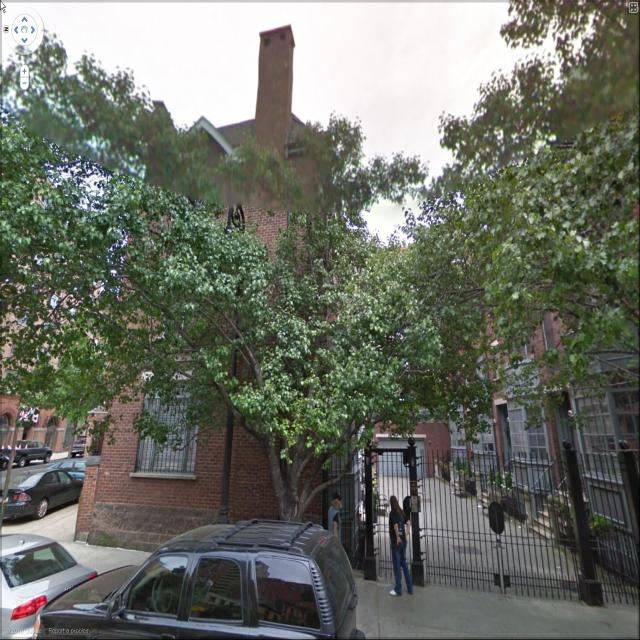b_2: (83, 14, 382, 548), (460, 66, 640, 550), (340, 254, 498, 476), (0, 120, 94, 464)
